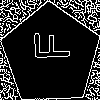F: (25, 29, 70, 62)
